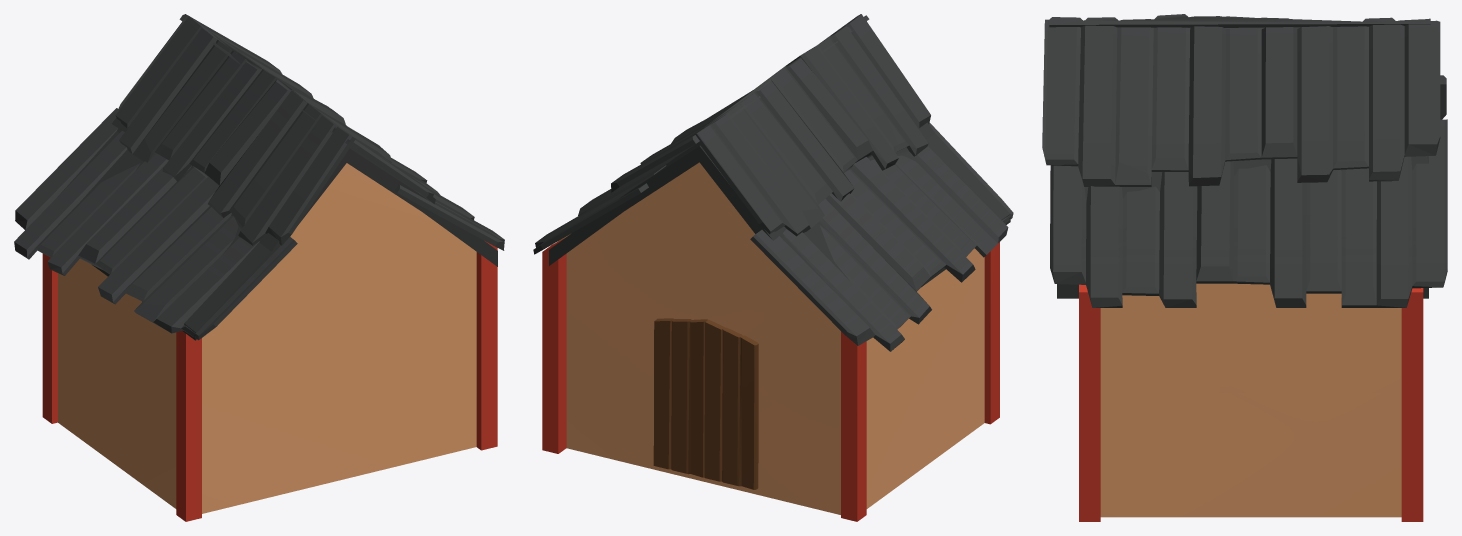
File: house_2.fbx
3 views of the same model, side by side, from view 1: azimuth 30°, elevation 25°; view 2: azimuth 150°, elevation 25°; view 3: azimuth 270°, elevation 25° (orthographic). The views are drawn at different scales.
Parts seen in each view (by area): view 1: 立方体.013, House4, 立方体.012; view 2: 立方体.013, House4, House1_Exteriour.019, 立方体.012; view 3: House4, 立方体.013, 立方体.012.
Part boxes in pixels (x1=…): 立方体.013: x1=42, y1=163, x2=497, y2=521; House4: x1=14, y1=14, x2=504, y2=340; 立方体.012: x1=58, y1=118, x2=497, y2=340; 立方体.013: x1=542, y1=147, x2=999, y2=521; House4: x1=533, y1=14, x2=1013, y2=351; House1_Exteriour.019: x1=653, y1=318, x2=758, y2=489; 立方体.012: x1=549, y1=122, x2=1010, y2=290; House4: x1=1042, y1=14, x2=1447, y2=307; 立方体.013: x1=1079, y1=283, x2=1423, y2=521; 立方体.012: x1=1057, y1=156, x2=1428, y2=298.
Size of the model in its own units: 107 by 103 by 90.62.
